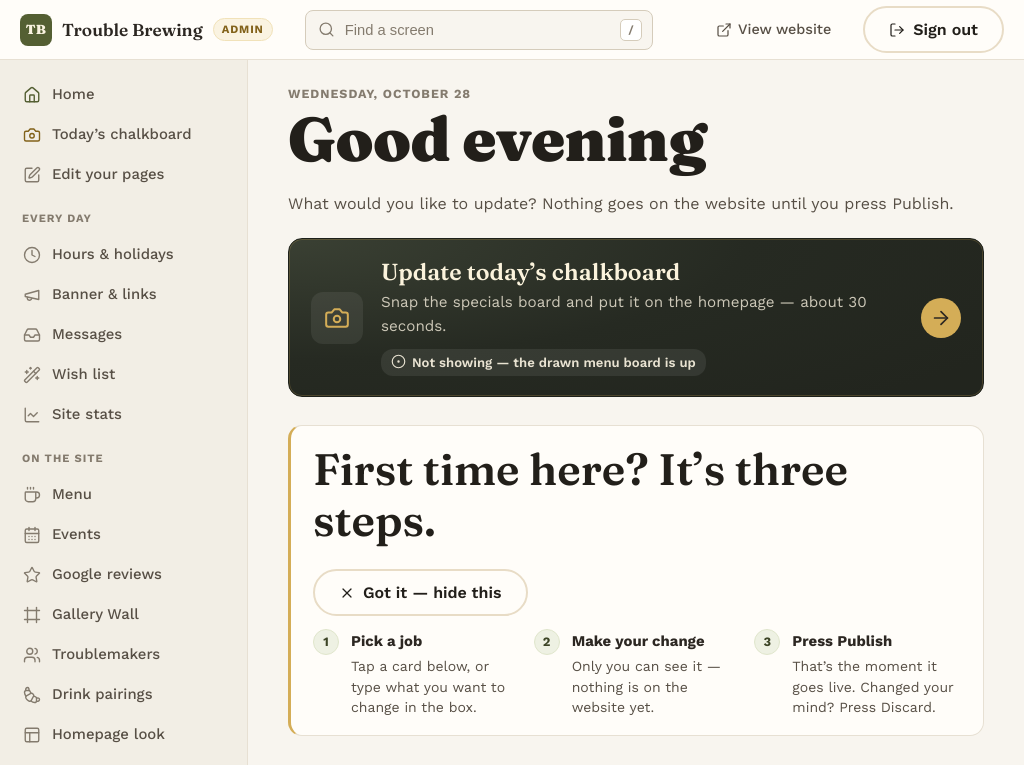
Test case: admin home › puts "Update today’s chalkboard" first, with its status in plain words
This screenshot has width=1024, height=765.
Expected: the text "Not showing — the drawn menu board is up" is shown, x1=381 y1=348 x2=706 y2=376
Click the link that starts with "Update today’s chalkboard".
click(337, 318)  # box x1=288 y1=238 x2=984 y2=397
(page scrolled)
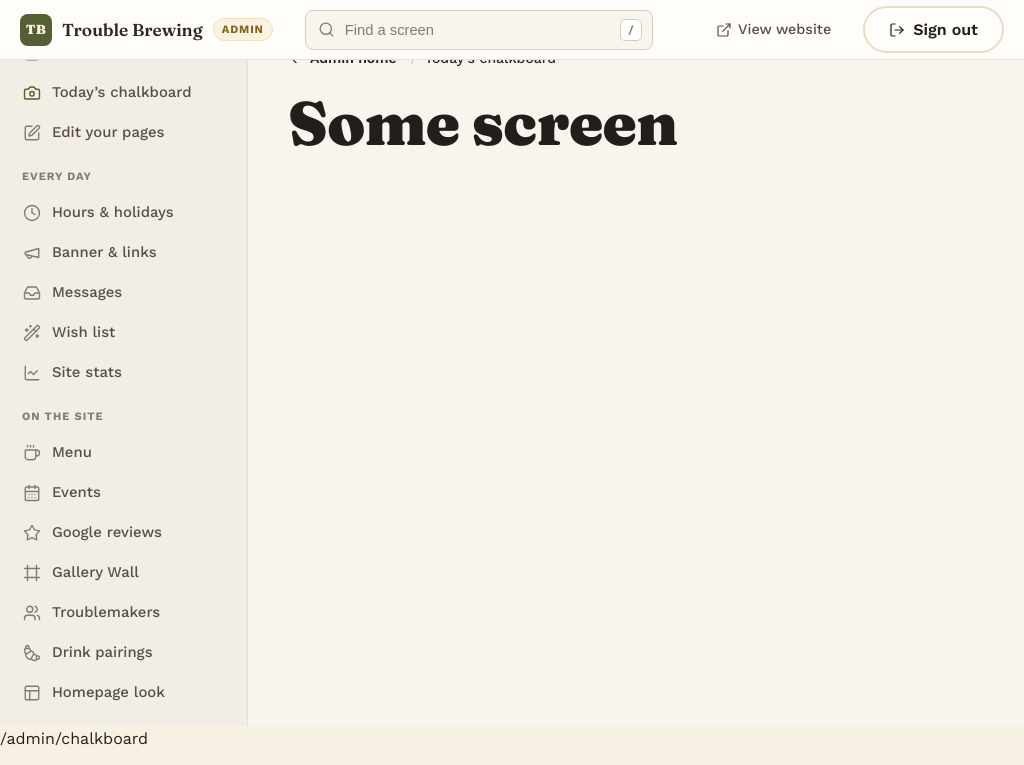
Expected: the text with test id "where" reads "/admin/chalkboard", x1=0 y1=729 x2=148 y2=748
